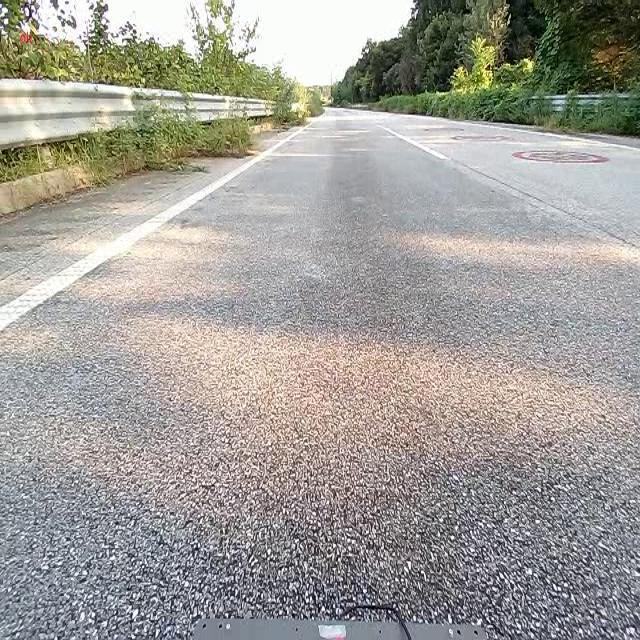Lane: (0, 118, 314, 327), (0, 126, 308, 332)
